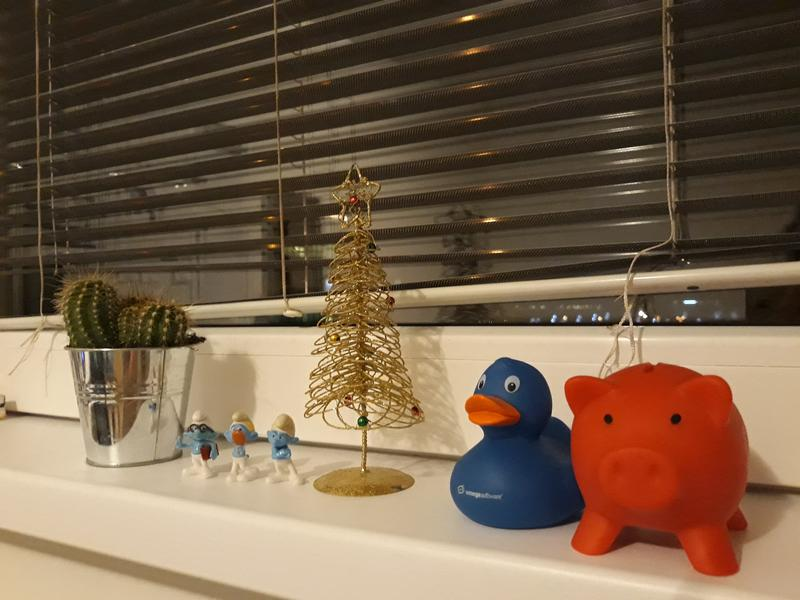foi_gujdica: (562, 354, 763, 584)
plava_patkica: (446, 350, 576, 552)
strumf: (171, 409, 221, 486), (227, 401, 261, 493), (265, 413, 303, 494)
